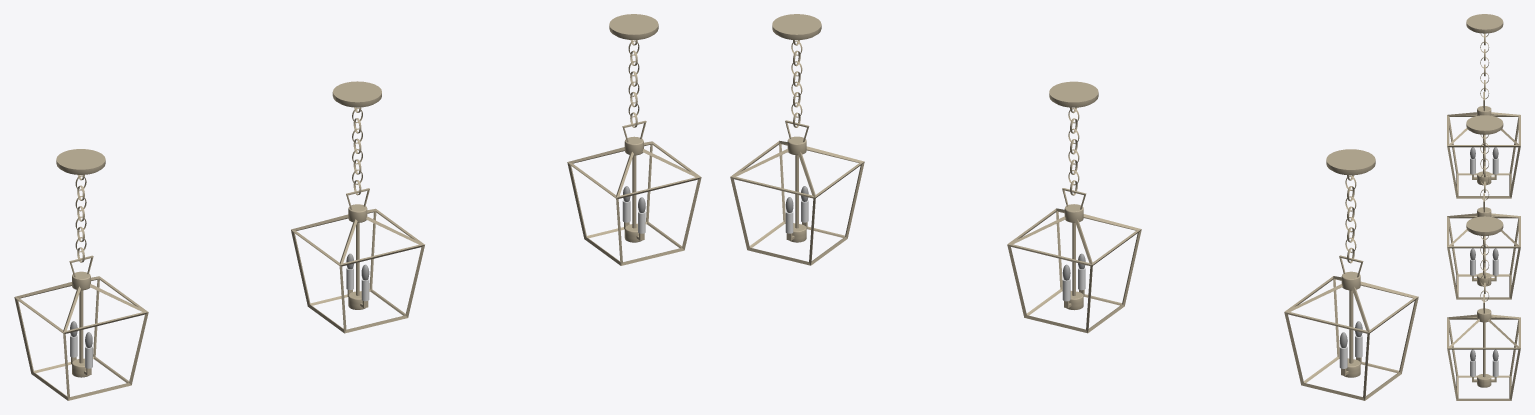
The model's file is 1989_kitchen_Light_DiannaSatinBrass.gltf.
The picture shows the model from 3 angles, left to right: view 1: azimuth 30°, elevation 25°; view 2: azimuth 150°, elevation 25°; view 3: azimuth 270°, elevation 25°; orthographic projection. The views are drawn at different scales.
Parts seen in each view (by area): view 1: Dianna Satin Brass; view 2: Dianna Satin Brass; view 3: Dianna Satin Brass.
Boxes of the visible parts, x1,y1,x2,y2 form: Dianna Satin Brass: (14,14,701,400); Dianna Satin Brass: (730,14,1418,400); Dianna Satin Brass: (1447,14,1520,400).
Bounding box in the file's own units: 2.83 × 0.9331 × 0.3781.
